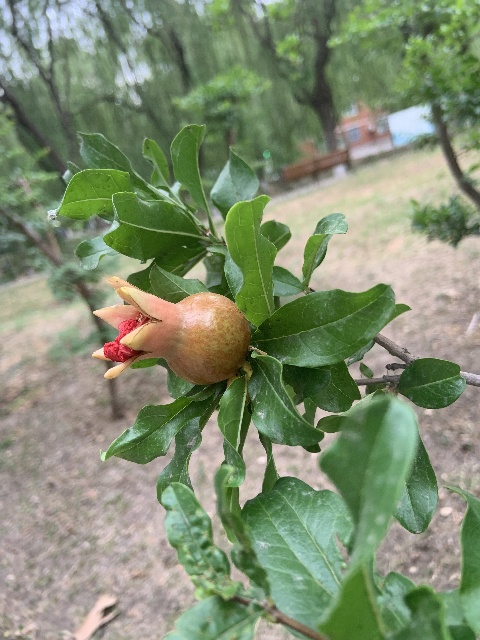early-fruit: (91, 275, 247, 384)
